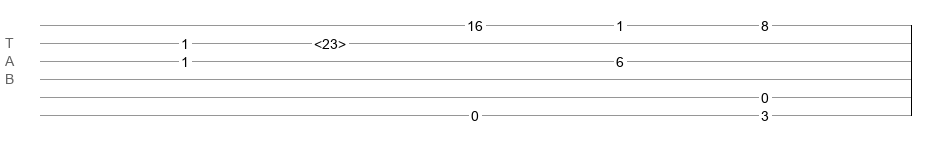0: (471, 108, 479, 118), (761, 90, 769, 100)
1: (181, 36, 189, 46), (181, 54, 189, 64), (616, 18, 624, 28)
16: (467, 18, 483, 28)
3: (761, 108, 769, 118)
6: (616, 54, 624, 64)
8: (761, 18, 769, 28)
harmonic: (314, 36, 346, 46)
